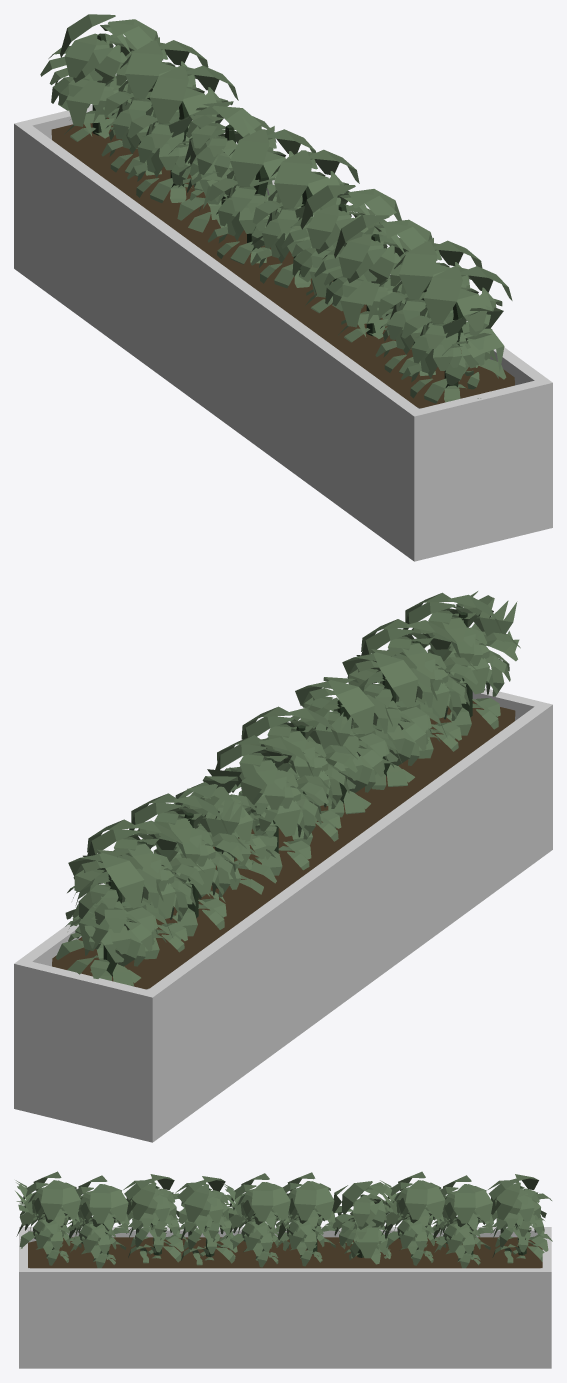
The model's file is saksi_bitkili_150x30x30.glb.
3 renders of one model, top to bottom at view 1: azimuth 30°, elevation 25°; view 2: azimuth 150°, elevation 25°; view 3: azimuth 270°, elevation 25°, orthographic. The views are drawn at different scales.
Parts seen in each view (by area): view 1: Planter_150x30x30_Straight, Dirt, Plant_10_Leaves, Plant_8_Leaves, Plant_1_Leaves, Plant_3_Leaves, Plant_5_Leaves, Plant_6_Leaves, Plant_7_Leaves, Plant_9_Leaves, Plant_2_Leaves, Plant_4_Leaves; view 2: Planter_150x30x30_Straight, Dirt, Plant_1_Leaves, Plant_5_Leaves, Plant_10_Leaves, Plant_3_Leaves, Plant_8_Leaves, Plant_6_Leaves, Plant_7_Leaves, Plant_2_Leaves, Plant_9_Leaves, Plant_4_Leaves; view 3: Planter_150x30x30_Straight, Dirt, Plant_6_Leaves, Plant_10_Leaves, Plant_3_Leaves, Plant_1_Leaves, Plant_7_Leaves, Plant_2_Leaves, Plant_9_Leaves, Plant_8_Leaves, Plant_4_Leaves, Plant_5_Leaves.
Boxes of the visible parts, x1=… form: Planter_150x30x30_Straight: x1=14, y1=104, x2=552, y2=561; Dirt: x1=51, y1=117, x2=514, y2=408; Plant_10_Leaves: x1=401, y1=266, x2=512, y2=403; Plant_8_Leaves: x1=314, y1=215, x2=437, y2=342; Plant_1_Leaves: x1=40, y1=14, x2=163, y2=141; Plant_3_Leaves: x1=127, y1=65, x2=238, y2=202; Plant_5_Leaves: x1=203, y1=117, x2=316, y2=264; Plant_6_Leaves: x1=251, y1=149, x2=359, y2=288; Plant_7_Leaves: x1=281, y1=185, x2=401, y2=313; Plant_9_Leaves: x1=367, y1=238, x2=482, y2=376; Plant_2_Leaves: x1=93, y1=37, x2=208, y2=176; Plant_4_Leaves: x1=177, y1=101, x2=276, y2=232; Planter_150x30x30_Straight: x1=14, y1=688, x2=552, y2=1142; Dirt: x1=52, y1=701, x2=515, y2=989; Plant_1_Leaves: x1=55, y1=849, x2=172, y2=986; Plant_5_Leaves: x1=207, y1=735, x2=331, y2=875; Plant_10_Leaves: x1=403, y1=591, x2=520, y2=735; Plant_3_Leaves: x1=129, y1=793, x2=246, y2=936; Plant_8_Leaves: x1=342, y1=649, x2=446, y2=789; Plant_6_Leaves: x1=241, y1=703, x2=357, y2=845; Plant_7_Leaves: x1=295, y1=677, x2=402, y2=817; Plant_2_Leaves: x1=83, y1=819, x2=204, y2=959; Plant_9_Leaves: x1=356, y1=619, x2=477, y2=758; Plant_4_Leaves: x1=173, y1=776, x2=276, y2=899; Planter_150x30x30_Straight: x1=19, y1=1227, x2=551, y2=1368; Dirt: x1=28, y1=1237, x2=542, y2=1268; Plant_6_Leaves: x1=222, y1=1173, x2=296, y2=1267; Plant_10_Leaves: x1=15, y1=1171, x2=82, y2=1265; Plant_3_Leaves: x1=380, y1=1171, x2=446, y2=1265; Plant_1_Leaves: x1=488, y1=1174, x2=552, y2=1263; Plant_7_Leaves: x1=175, y1=1176, x2=237, y2=1265; Plant_2_Leaves: x1=430, y1=1175, x2=500, y2=1268; Plant_9_Leaves: x1=66, y1=1175, x2=136, y2=1268; Plant_8_Leaves: x1=123, y1=1174, x2=186, y2=1263; Plant_4_Leaves: x1=332, y1=1181, x2=395, y2=1264; Plant_5_Leaves: x1=275, y1=1172, x2=347, y2=1266.
Bounding box in the file's own units: 0.3 × 0.5264 × 1.52.
